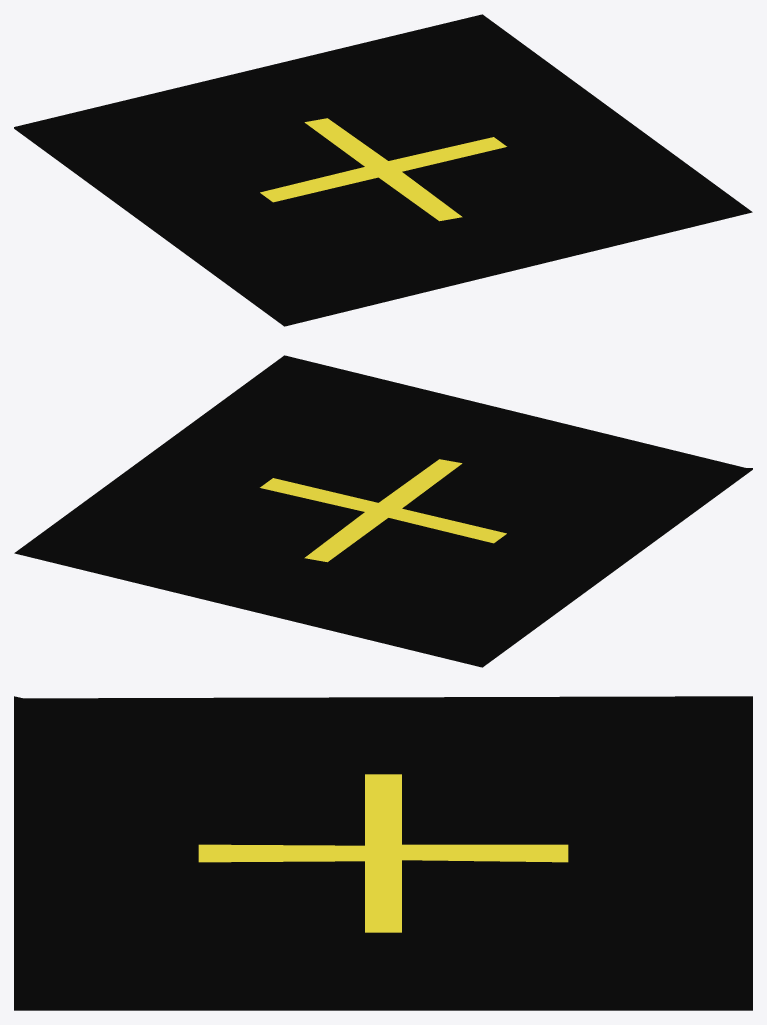
The model's file is lp-rua-X.gltf.
The picture shows the model from 3 angles, top to bottom: view 1: azimuth 30°, elevation 25°; view 2: azimuth 150°, elevation 25°; view 3: azimuth 270°, elevation 25°; orthographic projection. The views are drawn at different scales.
Parts seen in each view (by area): view 1: ruat; view 2: ruat; view 3: ruat.
Part boxes in pixels (box(x1,y1,x2,y2)): ruat: box(14, 14, 752, 326); ruat: box(14, 355, 752, 667); ruat: box(14, 696, 752, 1010).
Size of the model in its own units: 4 by 0.0128 by 4.
1 material, 1 textured.
